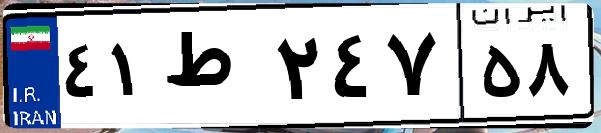1: (110, 28, 158, 98)
2: (270, 28, 330, 110)
4: (330, 28, 385, 110), (57, 26, 110, 100)
5: (475, 38, 525, 113)
7: (385, 28, 445, 110)
8: (525, 38, 570, 115)
ط: (158, 20, 270, 120)
